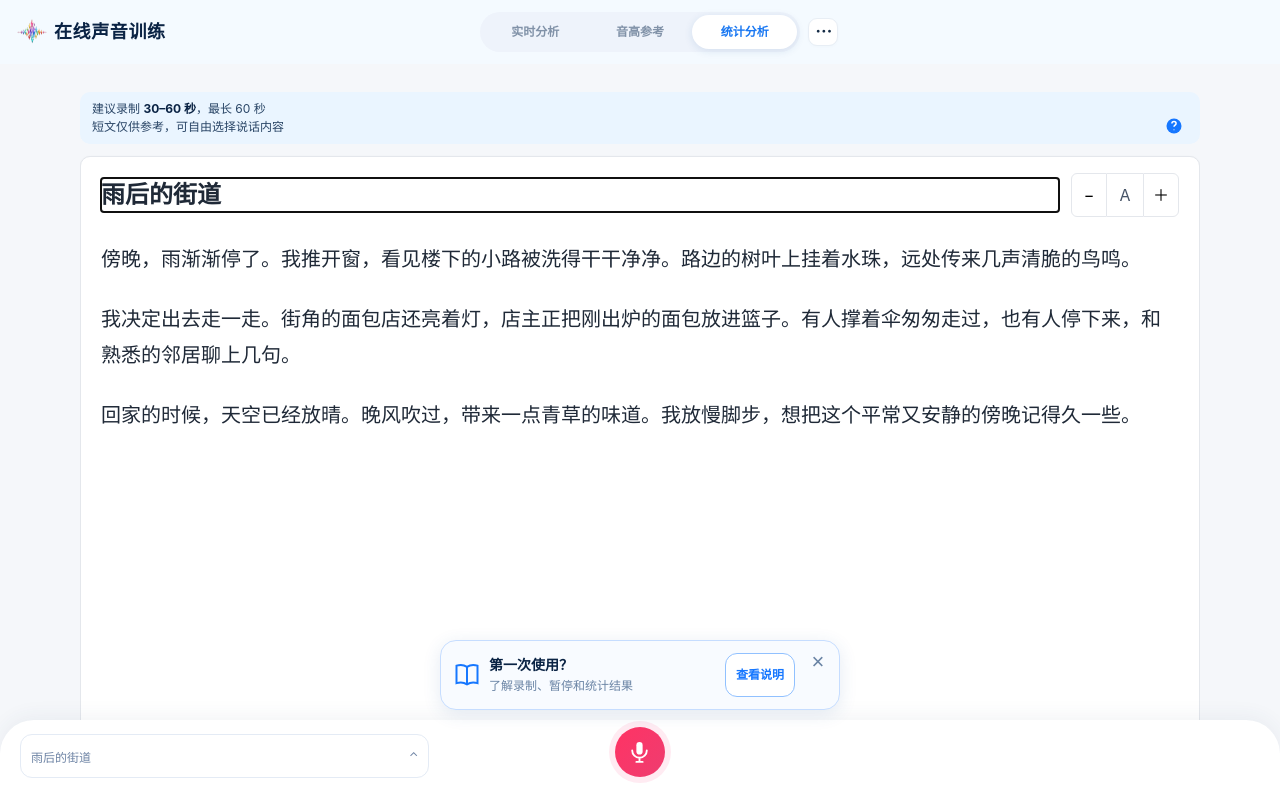
Scenario: keeps cancellation accessible during pending microphone permission
expect the element showing "雨后的街道 ⌃" is shown: met, box [0,720,1279,799]
Click the button named "开始录音" at (640, 752), box [615,727,665,777]
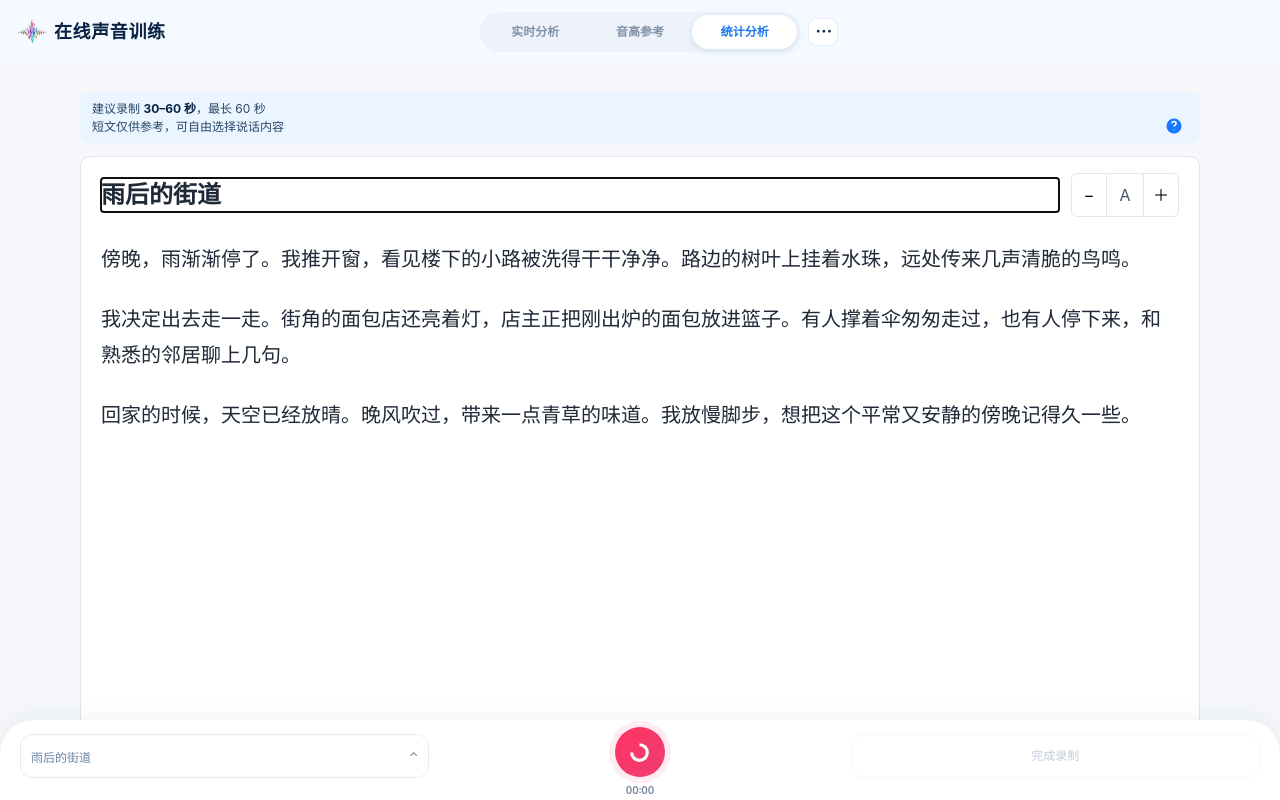
expect the button named "麦克风授权中…" is disabled: met, box [615,727,665,777]
Click the button named "更多操作" at (823, 32), box [808,18,838,46]
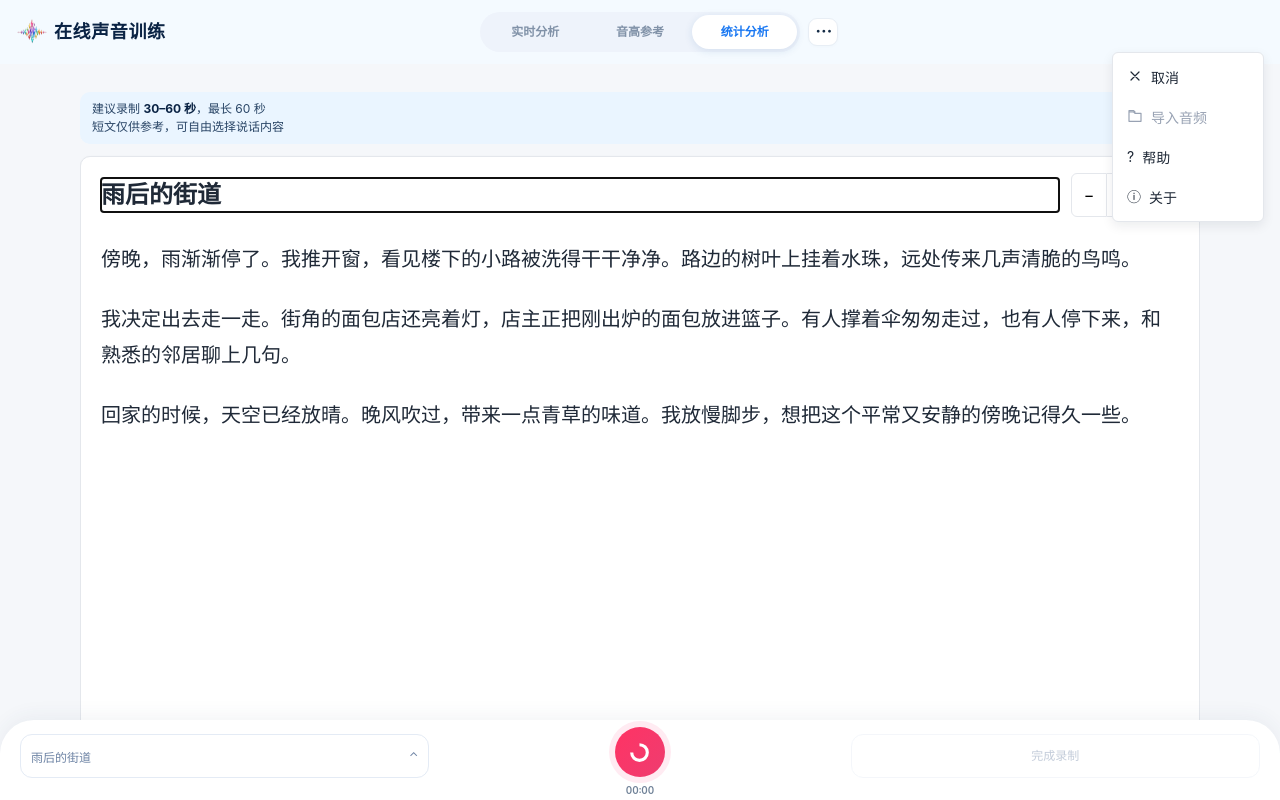
Click the menu item "取消" at (1188, 77), box [1117,57,1259,97]
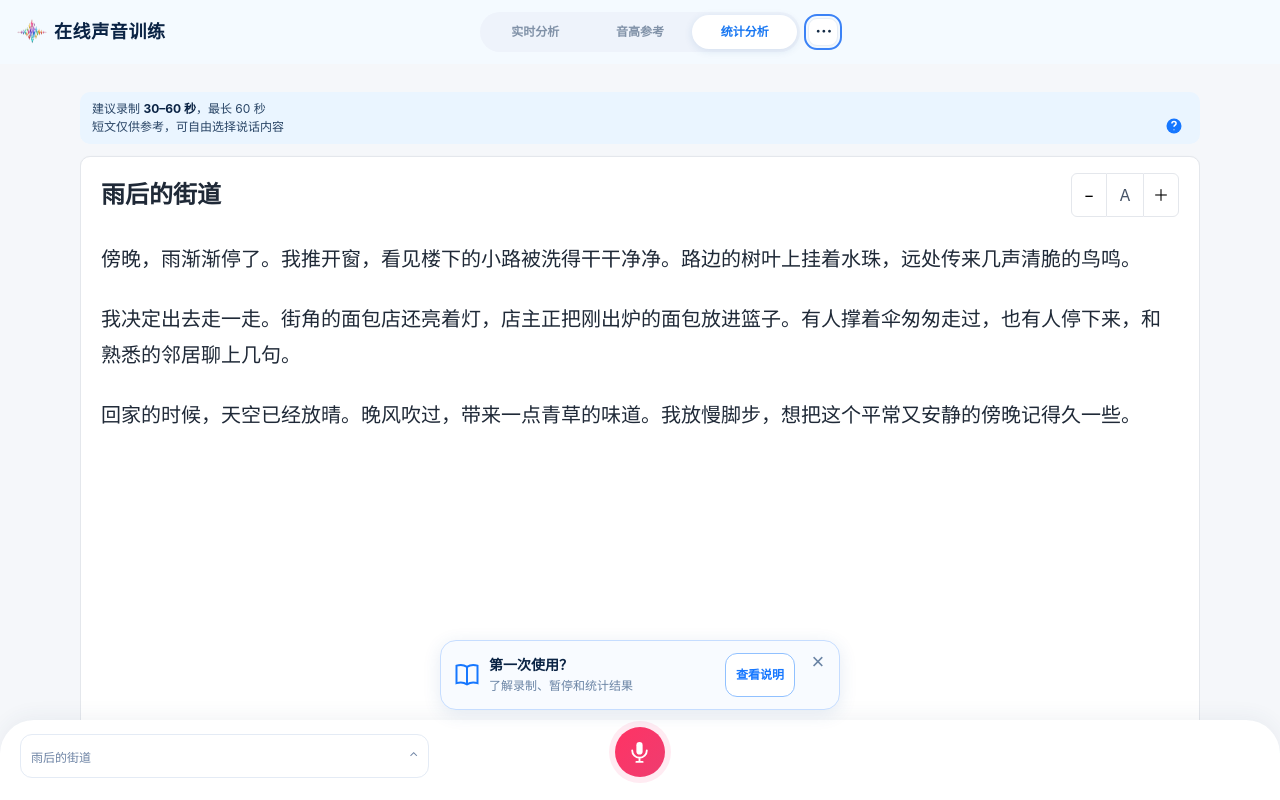
expect the button named "开始录音" is shown: met, box [615,727,665,777]
